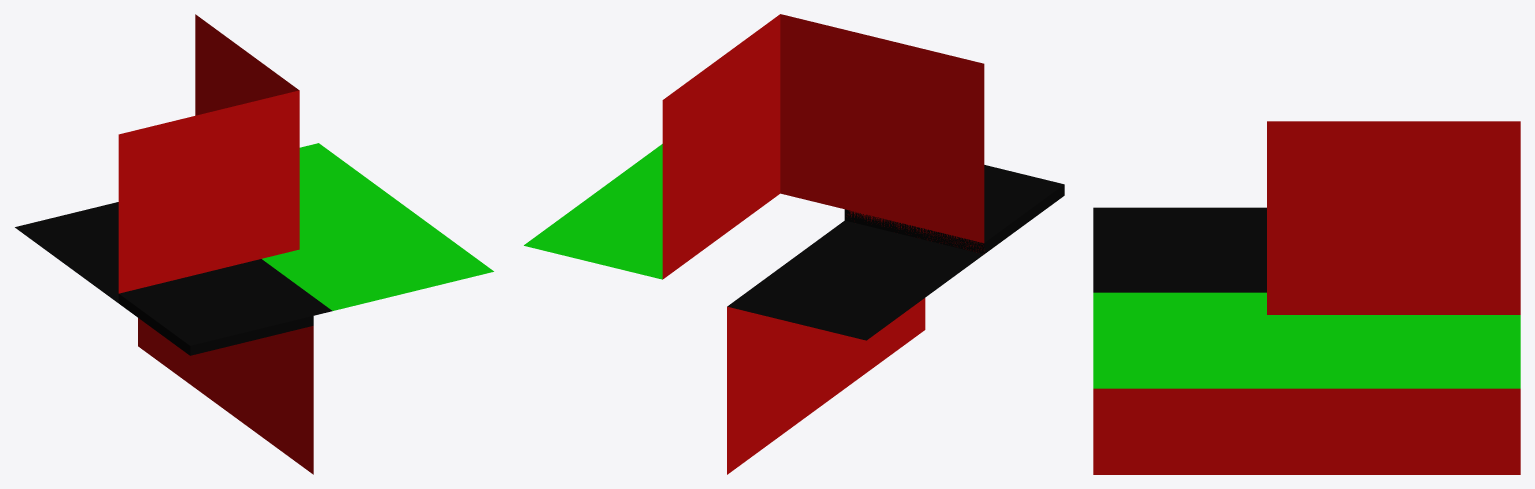
3 renders of one model, left to right at view 1: azimuth 30°, elevation 25°; view 2: azimuth 150°, elevation 25°; view 3: azimuth 270°, elevation 25°, orthographic. The views are drawn at different scales.
Parts seen in each view (by area): view 1: None_W_W_E_E_E_P_A_E_None; view 2: None_W_W_E_E_E_P_A_E_None; view 3: None_W_W_E_E_E_P_A_E_None.
Boxes of the visible parts, x1,y1,x2,y2 form: None_W_W_E_E_E_P_A_E_None: [15, 14, 493, 474]; None_W_W_E_E_E_P_A_E_None: [524, 14, 1064, 474]; None_W_W_E_E_E_P_A_E_None: [1093, 121, 1520, 474].
Bounding box in the file's own units: 100 × 100 × 100.
